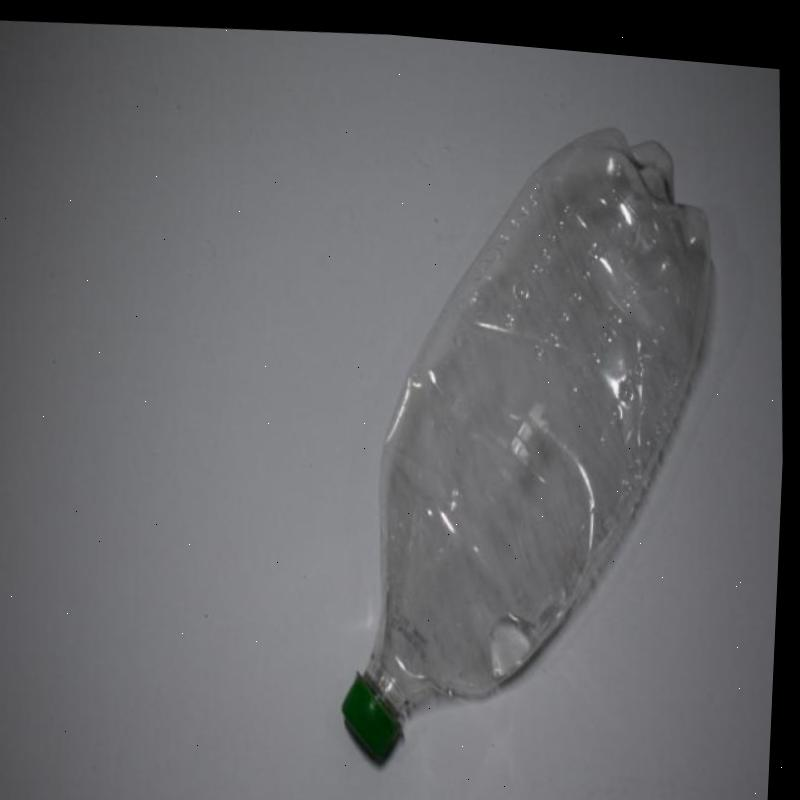botella: (315, 94, 742, 782)
